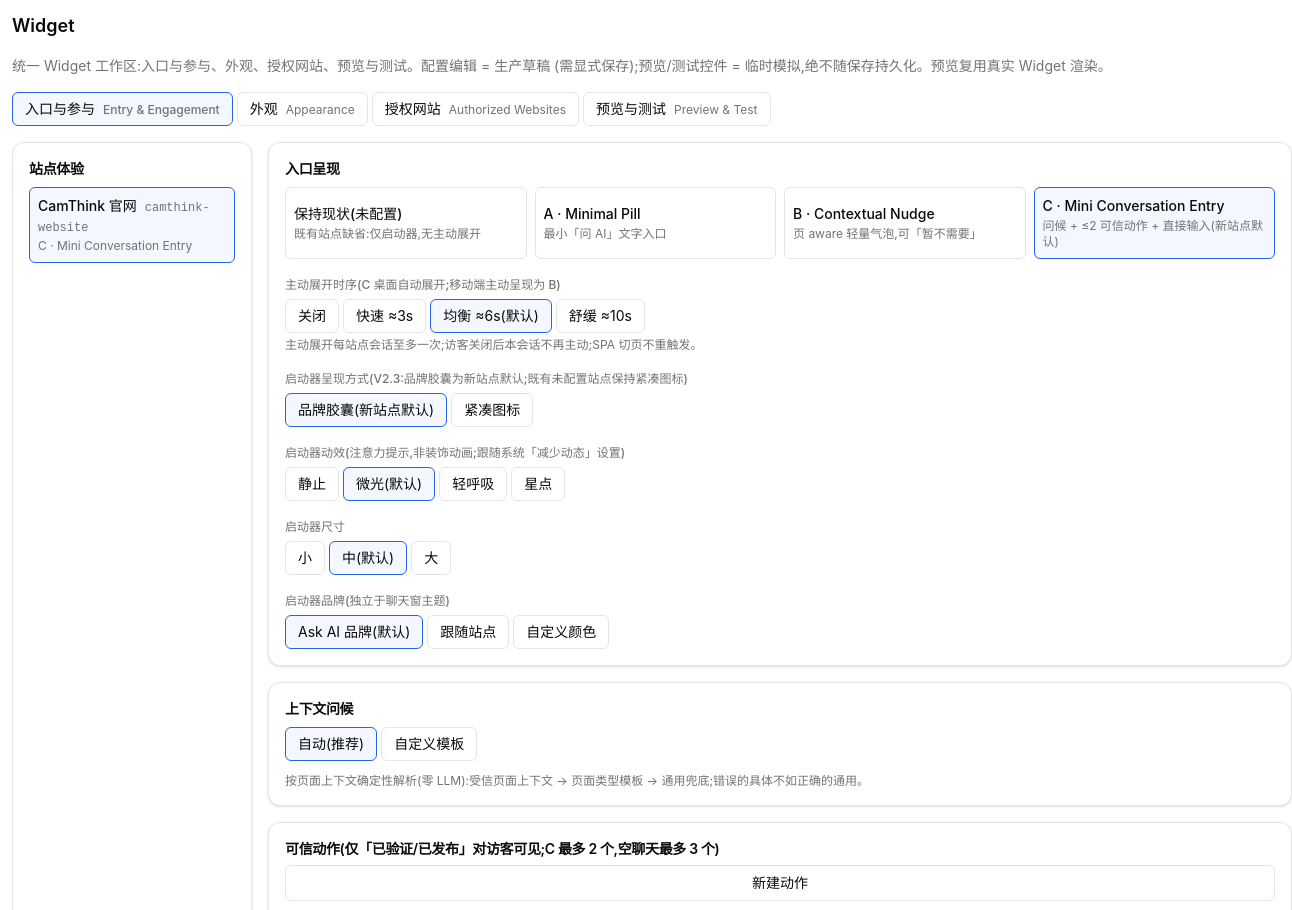
Scenario: Authorized Websites(#6) › 展示站点已授权精确来源
Expected: the text "CamThink 官网" is shown, [38,197,137,214]
Step 1. Click the tab "授权网站" → (475, 109), box [372,92,579,126]
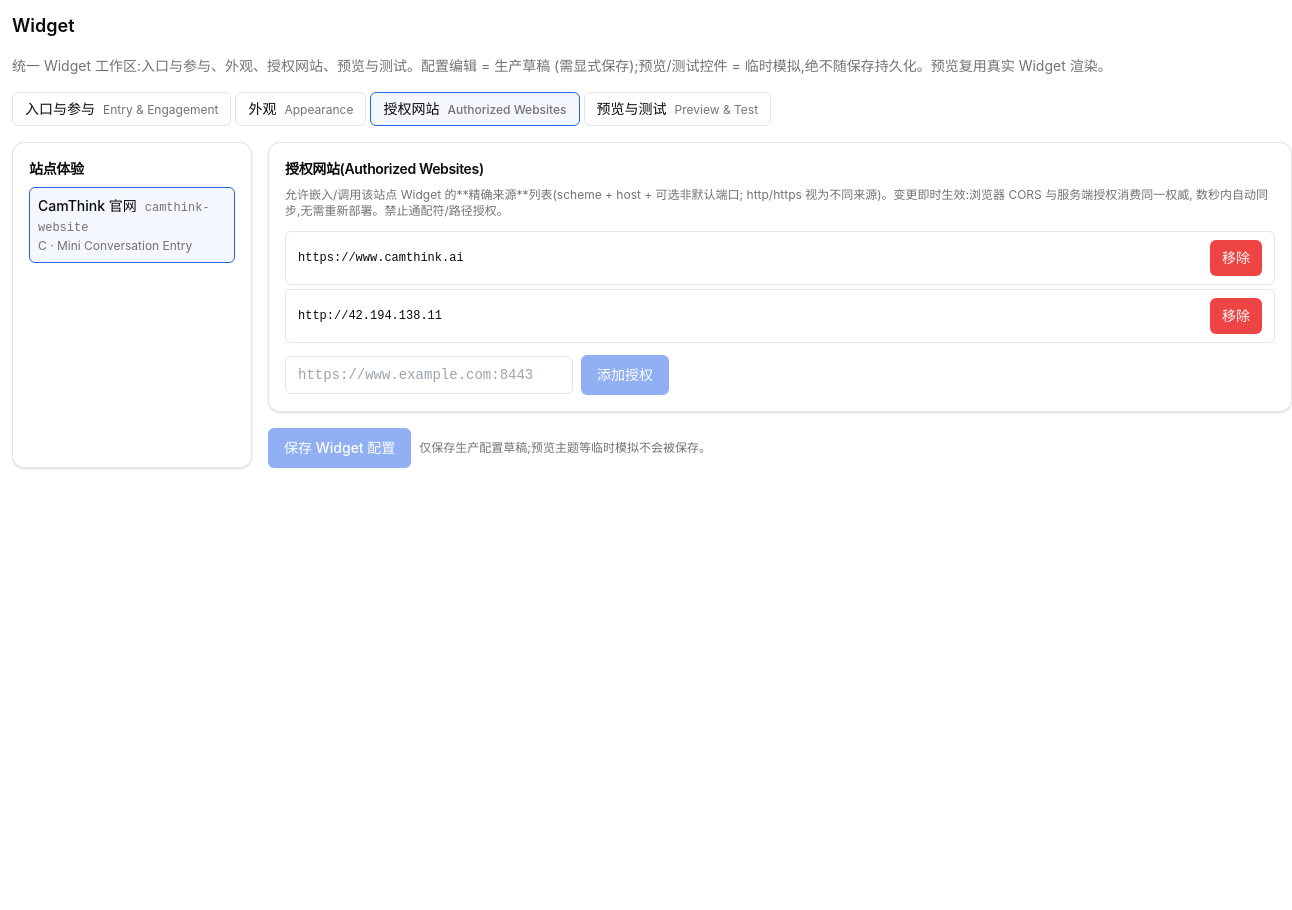
Now the text "https://www.camthink.ai" is shown, box [298,250,464,266]
Now the text "http://42.194.138.11" is shown, box [298,308,442,324]
